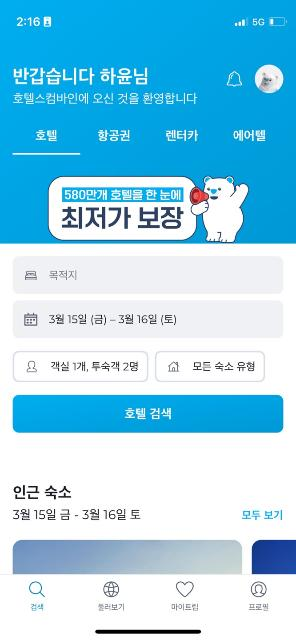Bottom_Navigation: (0, 574, 296, 640)
EditText: (14, 256, 284, 292)
Icon: (104, 580, 121, 598), (226, 70, 242, 88), (176, 582, 194, 598), (250, 581, 268, 597), (29, 582, 45, 598), (24, 312, 38, 326), (25, 270, 37, 280), (168, 361, 178, 372), (28, 360, 36, 372)
Image: (48, 176, 250, 244), (255, 64, 283, 94)
Multi_Tab: (0, 120, 296, 158)
Text: (15, 68, 198, 104), (13, 486, 141, 520), (61, 206, 183, 228), (50, 316, 175, 326), (66, 190, 180, 200), (50, 361, 137, 372), (193, 361, 255, 371), (126, 407, 172, 419), (242, 510, 282, 520), (166, 130, 198, 142), (234, 129, 266, 141), (98, 130, 130, 140), (36, 128, 56, 142), (49, 270, 76, 280), (98, 603, 126, 611), (170, 603, 198, 611), (249, 604, 269, 610), (30, 604, 44, 610)
TextButton: (13, 395, 283, 433)
TextImageButton: (15, 301, 284, 339), (14, 351, 148, 381), (155, 351, 265, 381), (98, 580, 126, 610), (172, 581, 198, 611), (249, 580, 269, 610), (28, 581, 46, 611)
UpperTaskBar: (0, 0, 296, 34)
